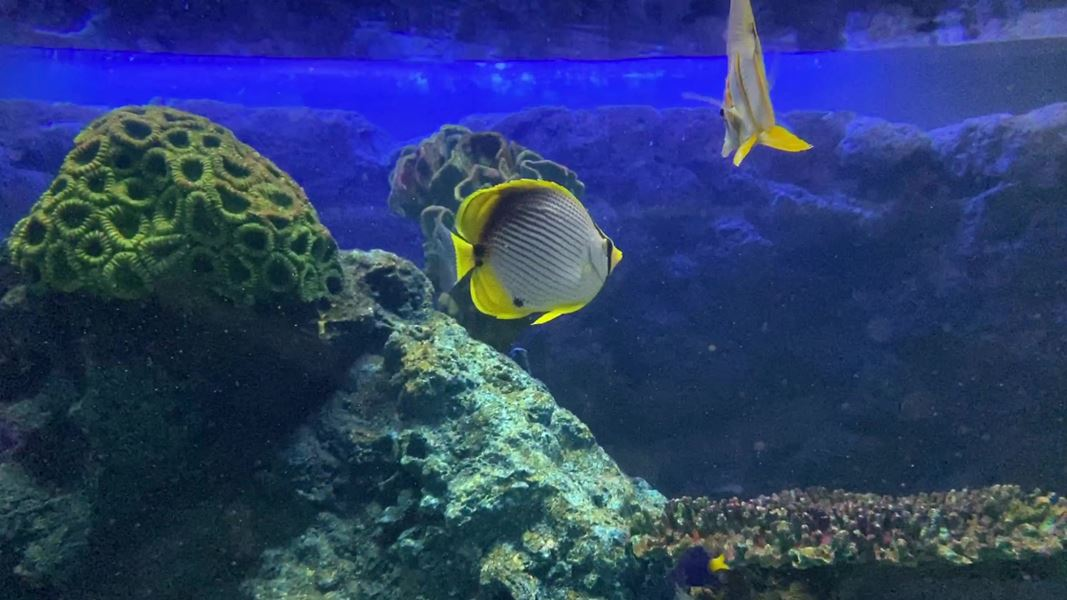Black-backed butterflyfish: (424, 169, 632, 337)
